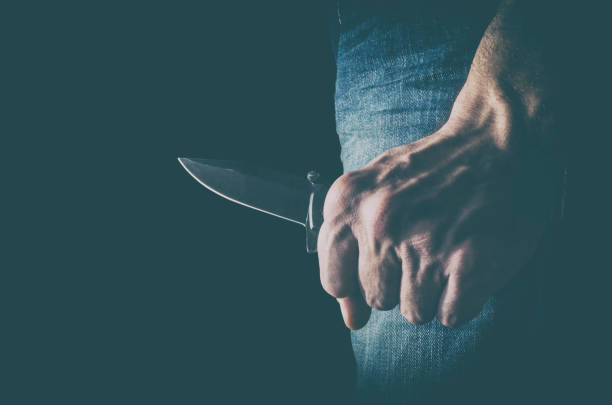knife: (175, 154, 317, 230)
